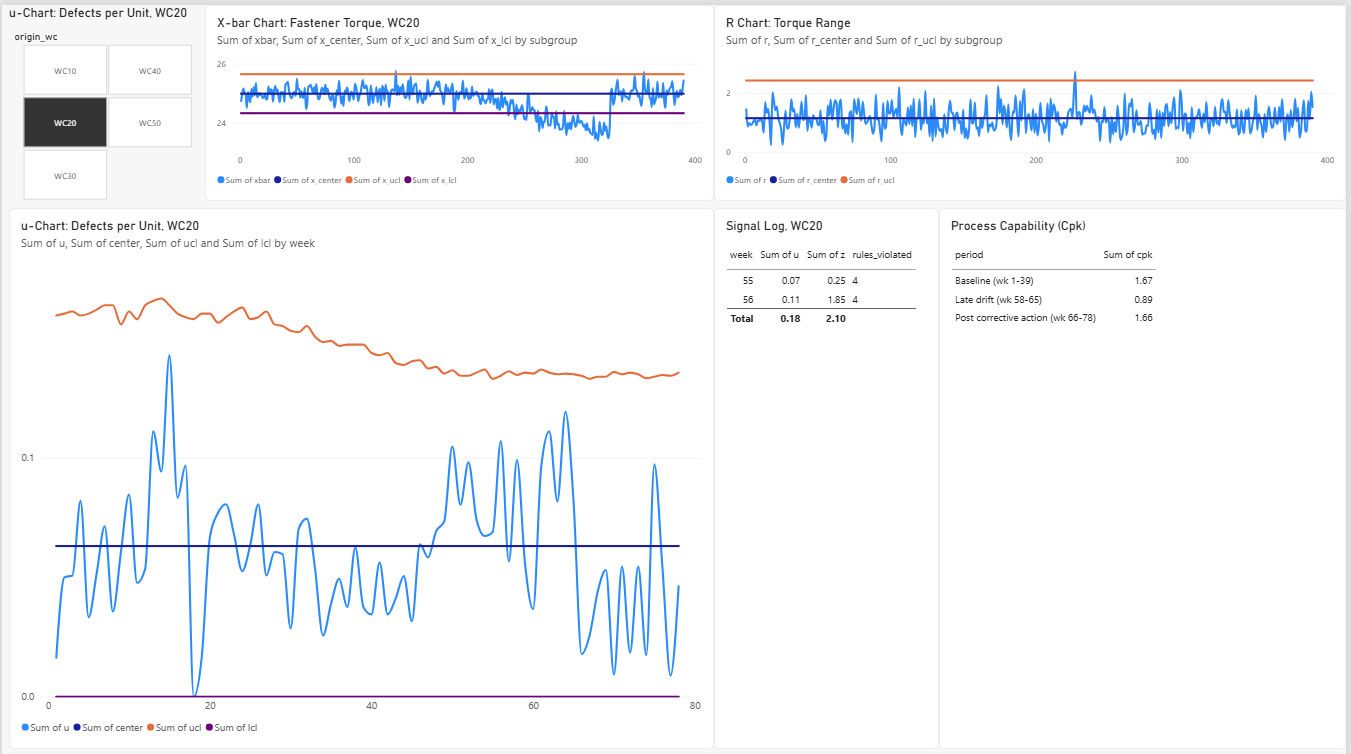

This screenshot's page, from the dashboard's own definition file:
{"tool":"powerbi","page":{"name":"Process Health","canvas":[1920,1080],"ordinal":1},"visuals":[{"type":"slicer","title":"u-Chart: Defects per Unit, WC20","fields":{"Values":["spc_u_chart.origin_wc"]},"box":[10,0,280,280],"z":0},{"type":"lineChart","title":"u-Chart: Defects per Unit, WC20","fields":{"Category":["spc_u_chart.week"],"Y":["Sum(spc_u_chart.u)","Sum(spc_u_chart.center)","Sum(spc_u_chart.ucl)","Sum(spc_u_chart.lcl)"]},"box":[10.2,290.3,1006.7,773.3],"z":1},{"type":"tableEx","title":"Signal Log, WC20","fields":{"Values":["spc_u_chart.week","Sum(spc_u_chart.u)","Sum(spc_u_chart.z)","spc_u_chart.rules_violated"]},"box":[1016.9,290.3,321,773.3],"z":2},{"type":"lineChart","title":"X-bar Chart: Fastener Torque, WC20","fields":{"Category":["spc_torque_xbar_r.subgroup"],"Y":["Sum(spc_torque_xbar_r.xbar)","Sum(spc_torque_xbar_r.x_center)","Sum(spc_torque_xbar_r.x_ucl)","Sum(spc_torque_xbar_r.x_lcl)"]},"box":[290.3,0,727,280],"z":3},{"type":"lineChart","title":"R Chart: Torque Range","fields":{"Category":["spc_torque_xbar_r.subgroup"],"Y":["Sum(spc_torque_xbar_r.r)","Sum(spc_torque_xbar_r.r_center)","Sum(spc_torque_xbar_r.r_ucl)"]},"box":[1017,0,903,280],"z":4},{"type":"tableEx","title":"Process Capability (Cpk)","fields":{"Values":["torque_capability.period","Sum(torque_capability.cpk)"]},"box":[1338,290,582,773],"z":5}]}

Visuals, with their boxes in screenshot pixels (x1, y1, x2, y2), scaled from the page's 1920x1080 canvas onto the 1351x754 screenshot:
"u-Chart: Defects per Unit, WC20" slicer: bbox=(7, 0, 204, 195)
"u-Chart: Defects per Unit, WC20" lineChart: bbox=(7, 203, 716, 743)
"Signal Log, WC20" tableEx: bbox=(716, 203, 941, 743)
"X-bar Chart: Fastener Torque, WC20" lineChart: bbox=(204, 0, 716, 195)
"R Chart: Torque Range" lineChart: bbox=(716, 0, 1350, 195)
"Process Capability (Cpk)" tableEx: bbox=(941, 202, 1350, 742)
